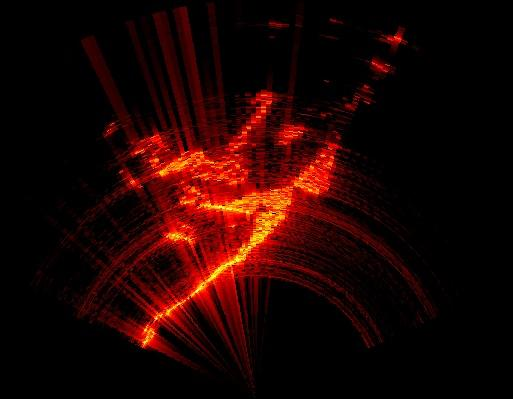shipwreck: (142, 136, 339, 345), (155, 90, 274, 185), (278, 124, 305, 149), (167, 224, 194, 243)
